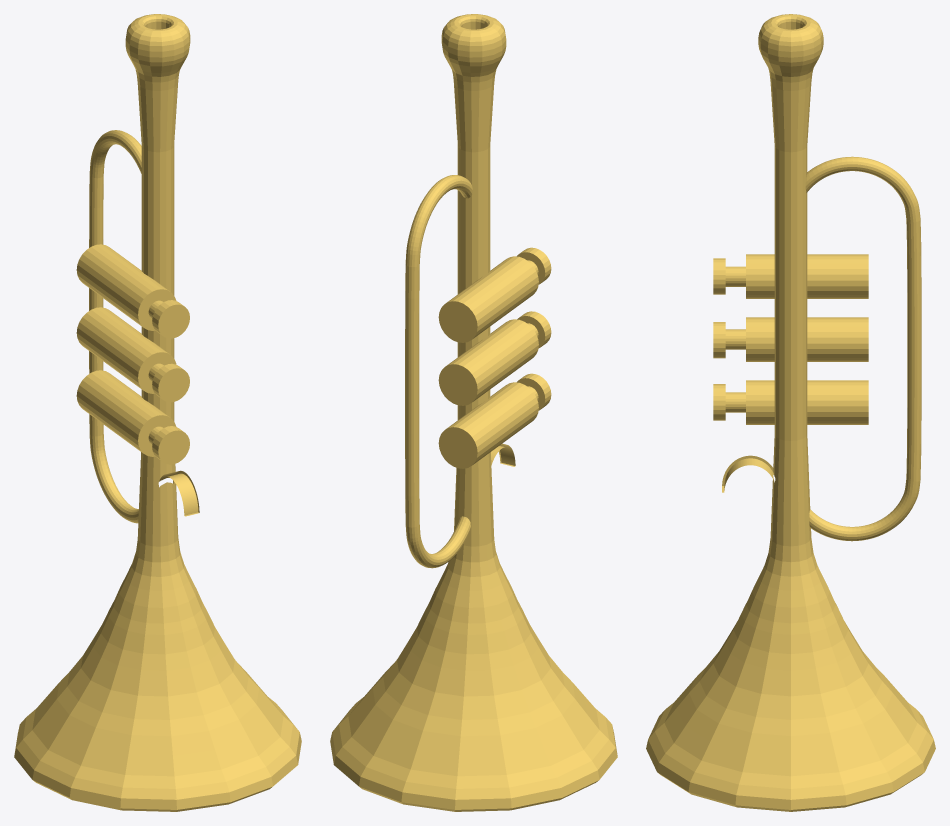
The model's file is TRUMPET.glb.
The picture shows the model from 3 angles, left to right: view 1: azimuth 30°, elevation 25°; view 2: azimuth 150°, elevation 25°; view 3: azimuth 270°, elevation 25°; orthographic projection.
Parts seen in each view (by area): view 1: _0; view 2: _0; view 3: _0.
Boxes of the visible parts, bbox=[...] form: _0: bbox=[14, 14, 301, 811]; _0: bbox=[330, 14, 617, 811]; _0: bbox=[646, 14, 935, 811].
Bounding box in the file's own units: 2.75 × 7.65 × 2.75.
